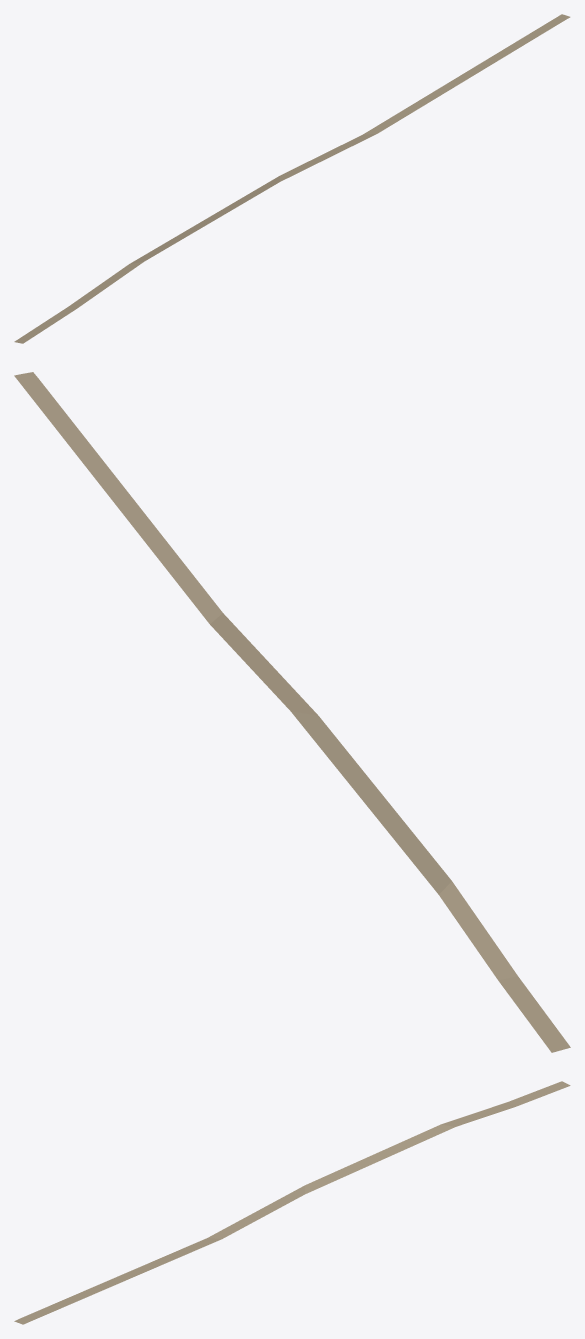
Rendered from farm_-3_0_track.glb.
3 views of the same model, one above another, from view 1: azimuth 90°, elevation 25°; view 2: azimuth 150°, elevation 25°; view 3: azimuth 270°, elevation 25° (orthographic). The views are drawn at different scales.
Parts seen in each view (by area): view 1: geometry_0; view 2: geometry_0; view 3: geometry_0.
Part boxes in pixels (bbox=[...]): geometry_0: bbox=[14, 14, 570, 343]; geometry_0: bbox=[14, 372, 570, 1052]; geometry_0: bbox=[14, 1081, 570, 1324].
Bounding box in the file's own units: 190 × 13.79 × 156.
